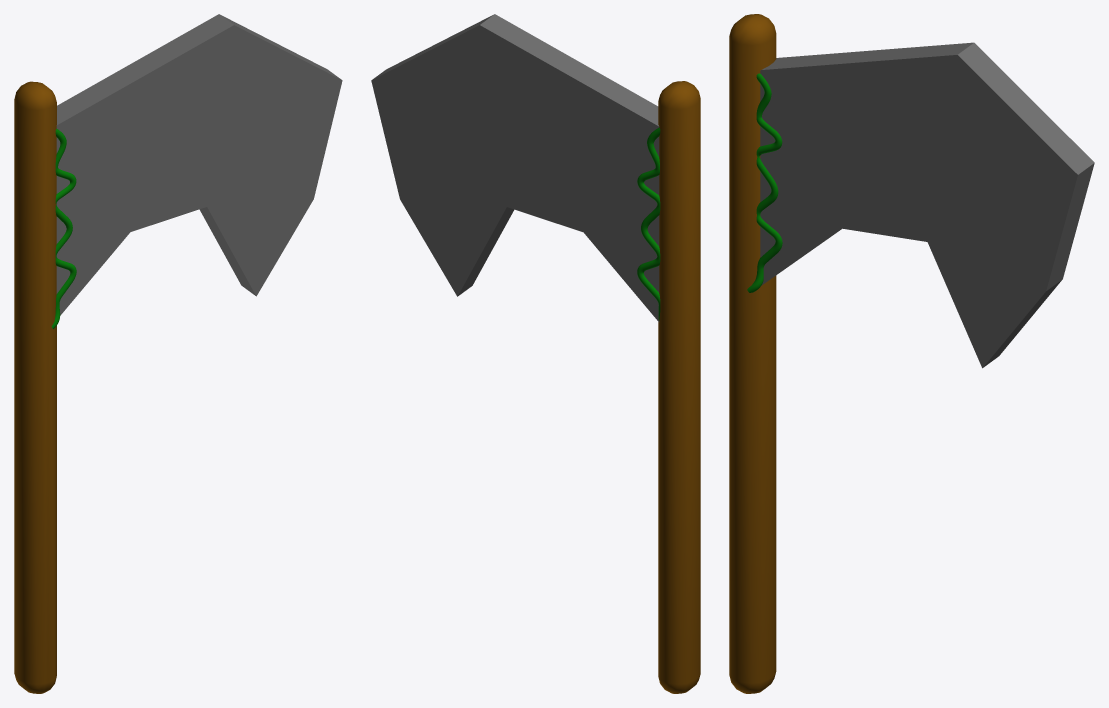
Rendered from handaxe.fbx.
3 views of the same model, side by side, from view 1: azimuth 30°, elevation 25°; view 2: azimuth 150°, elevation 25°; view 3: azimuth 330°, elevation 25° (orthographic). The views are drawn at different scales.
Parts seen in each view (by area): view 1: Extrude, Cube, Sweep; view 2: Extrude, Cube, Sweep_1; view 3: Extrude, Cube, Sweep.
Part boxes in pixels (left/top/right/bottom): Extrude: left=56, top=14, right=342, bottom=315; Cube: left=14, top=81, right=56, bottom=693; Sweep: left=51, top=128, right=76, bottom=328; Extrude: left=371, top=14, right=659, bottom=322; Cube: left=658, top=81, right=700, bottom=693; Sweep_1: left=637, top=127, right=660, bottom=320; Extrude: left=760, top=42, right=1094, bottom=368; Cube: left=729, top=14, right=776, bottom=693; Sweep: left=747, top=73, right=782, bottom=292.
Bounding box in the file's own units: 0.4841 × 0.9125 × 0.0589.
